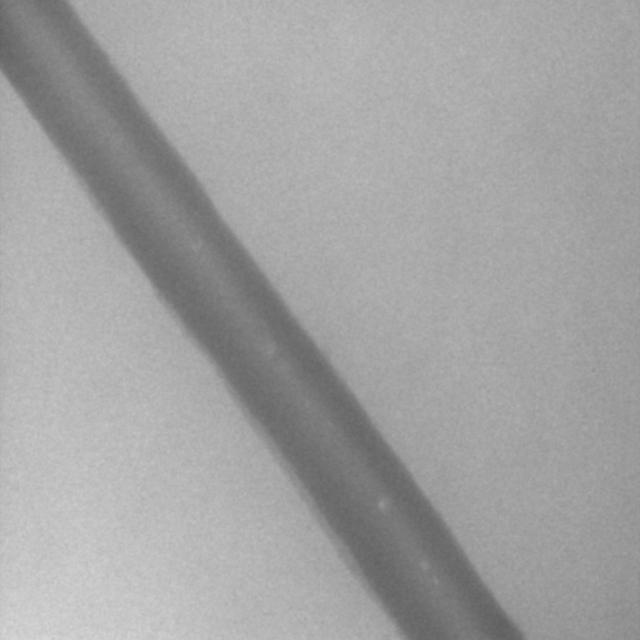air hole: (376, 497, 388, 512)
